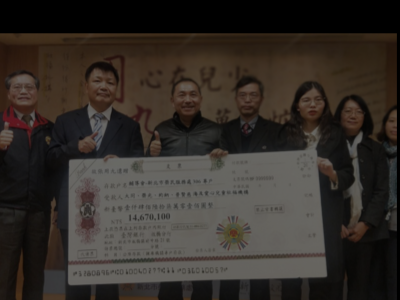without_mask: (87, 74, 117, 105), (7, 81, 37, 108), (172, 89, 200, 116), (297, 95, 325, 120), (235, 89, 262, 114), (339, 107, 364, 130), (383, 115, 396, 140)
